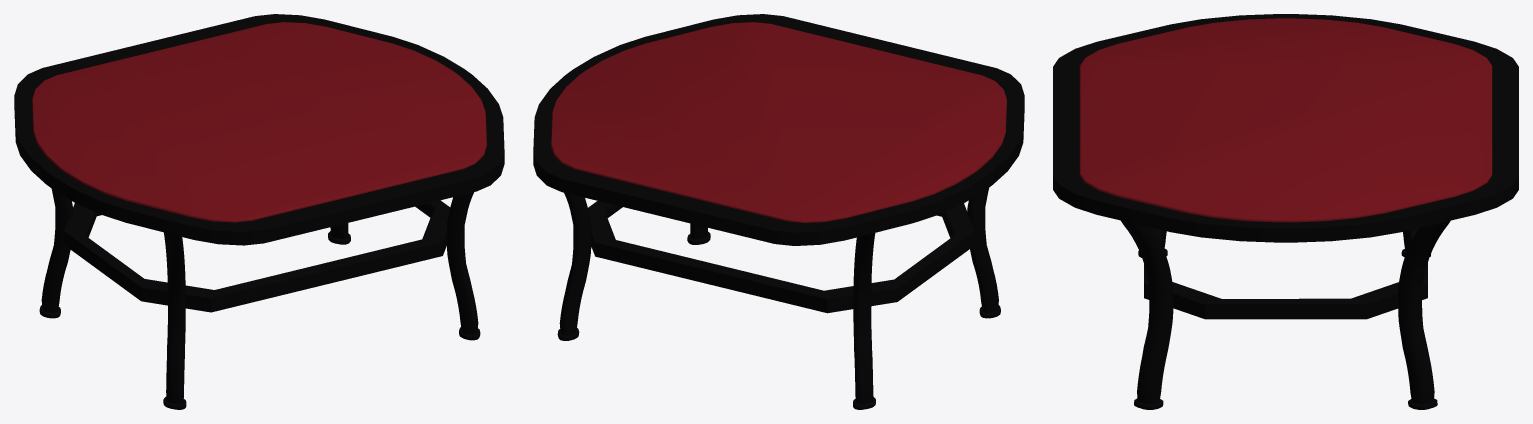
File: Table.fbx
3 renders of one model, left to right at view 1: azimuth 30°, elevation 25°; view 2: azimuth 150°, elevation 25°; view 3: azimuth 270°, elevation 25°, orthographic. The views are drawn at different scales.
Parts seen in each view (by area): view 1: Table; view 2: Table; view 3: Table.
Part boxes in pixels (x1,y1,x2,y2): Table: [14, 14, 504, 409]; Table: [533, 14, 1024, 409]; Table: [1053, 14, 1518, 409].
Bounding box in the file's own units: 459 × 500 × 231.
